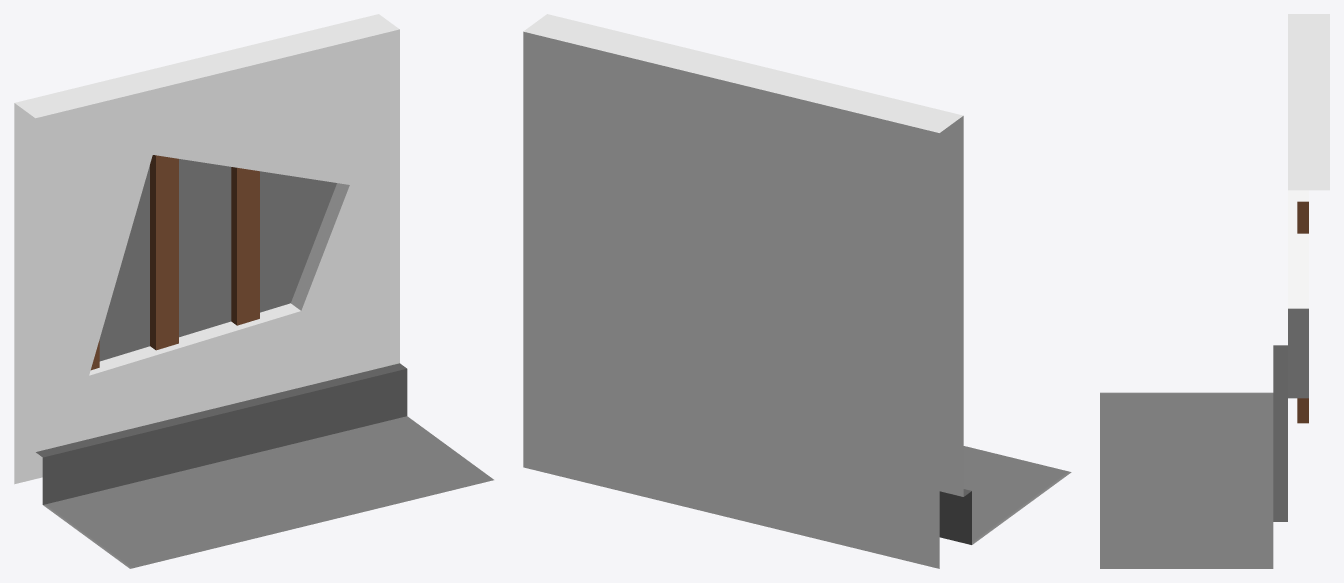
File: E_Wall_Straight_Cracked_3.fbx
The picture shows the model from 3 angles, left to right: view 1: azimuth 30°, elevation 25°; view 2: azimuth 150°, elevation 25°; view 3: azimuth 270°, elevation 25°; orthographic projection. The views are drawn at different scales.
Visible parts, largest first — view 1: E_Wall_Straight_Cracked_3; view 2: E_Wall_Straight_Cracked_3; view 3: E_Wall_Straight_Cracked_3.
Boxes of the visible parts, x1,y1,x2,y2 form: E_Wall_Straight_Cracked_3: (14, 14, 493, 568); E_Wall_Straight_Cracked_3: (523, 14, 1071, 568); E_Wall_Straight_Cracked_3: (1100, 14, 1329, 568).
Bounding box in the file's own units: 200 × 200 × 110.
